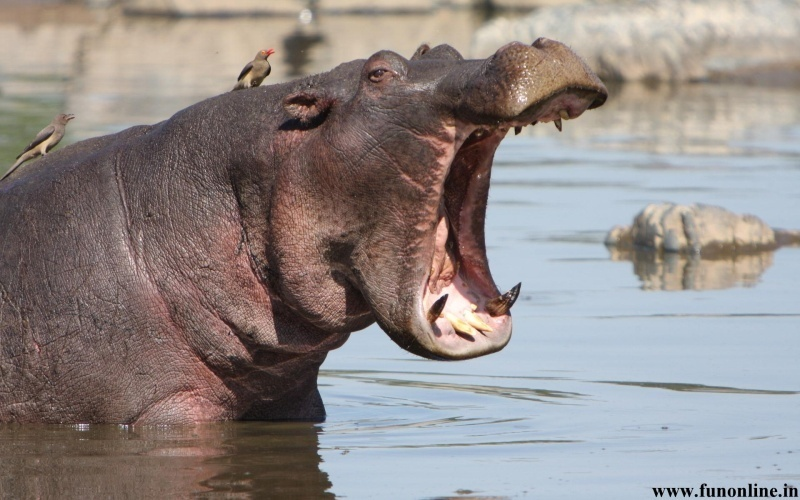hipopotamo: (0, 31, 606, 422)
